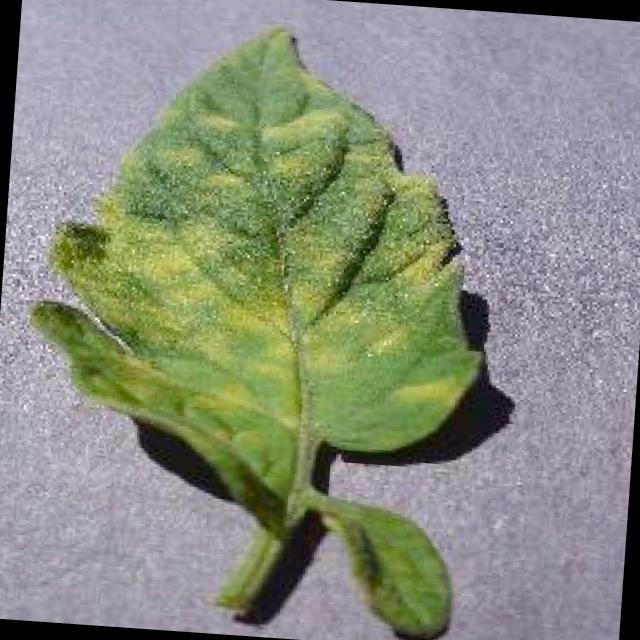Tomato mold leaf: (19, 8, 504, 538)
